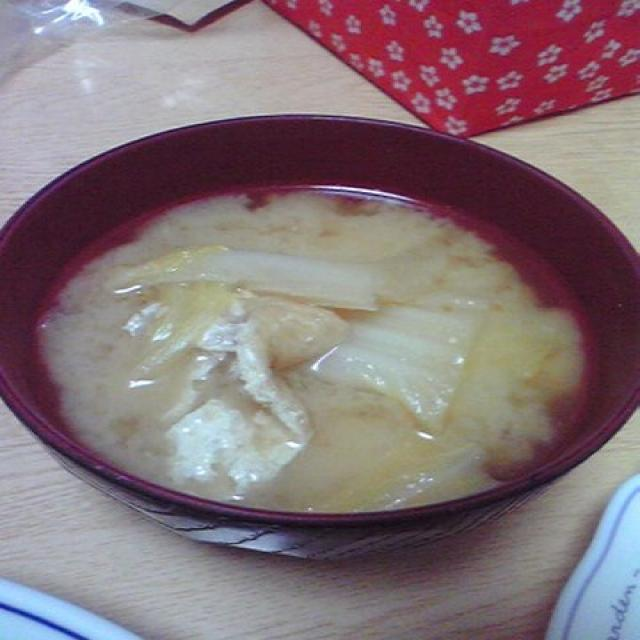汤锅炖物: (0, 108, 640, 564)
